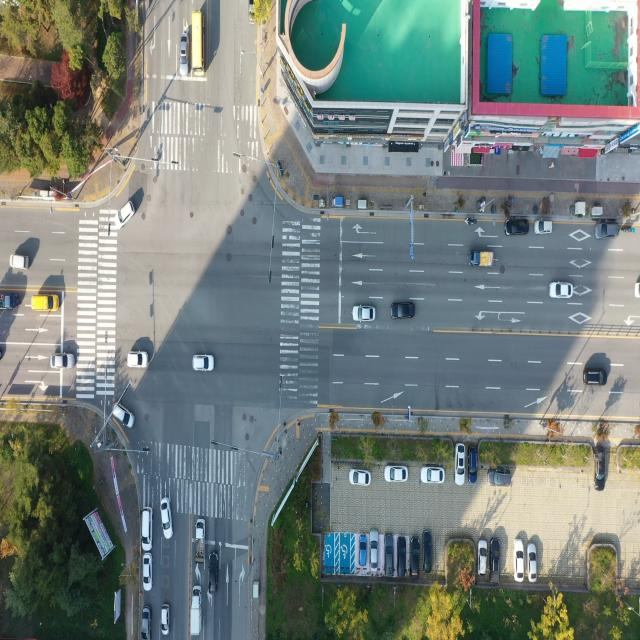car: (30, 292, 60, 314), (142, 511, 154, 556), (115, 200, 134, 228), (113, 405, 133, 431), (162, 498, 174, 539), (422, 529, 433, 573), (491, 540, 502, 582), (209, 554, 220, 596), (584, 369, 608, 388), (392, 304, 416, 322), (488, 471, 512, 489), (397, 536, 407, 578), (596, 447, 607, 485), (385, 465, 408, 483), (512, 542, 522, 583), (454, 443, 464, 484), (412, 535, 422, 576), (53, 353, 77, 370), (528, 542, 538, 582), (369, 534, 379, 574), (422, 466, 444, 484), (128, 351, 150, 369), (140, 607, 152, 640), (596, 224, 619, 241), (192, 354, 213, 372), (386, 535, 395, 577), (353, 307, 375, 324), (551, 282, 573, 299), (508, 219, 530, 236), (480, 540, 490, 577), (142, 554, 152, 591), (468, 447, 478, 483), (472, 449, 482, 485), (350, 469, 371, 486), (358, 535, 368, 570), (180, 34, 188, 76), (10, 256, 28, 273), (534, 220, 552, 234), (162, 606, 170, 637), (248, 0, 256, 23)
small_bus: (191, 11, 204, 78)
small_truck: (189, 587, 202, 638), (469, 250, 495, 268), (198, 518, 208, 562), (0, 292, 19, 310)
